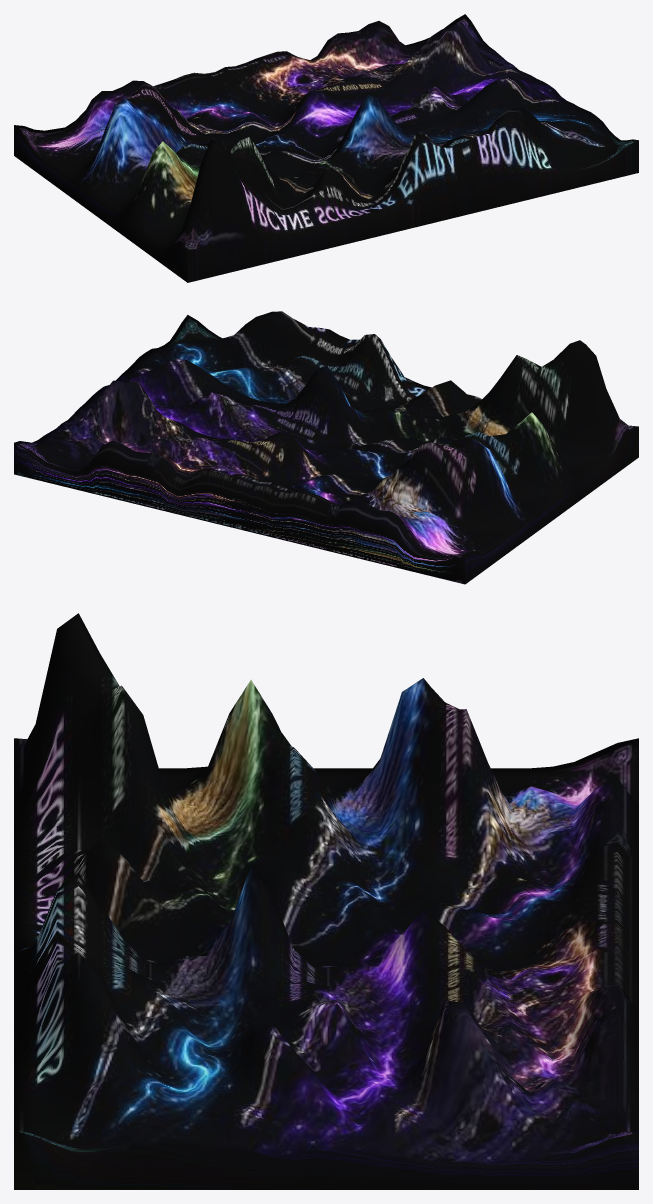
File: EXTRA_Brooms_6Tier.glb
The picture shows the model from 3 angles, top to bottom: view 1: azimuth 30°, elevation 25°; view 2: azimuth 150°, elevation 25°; view 3: azimuth 270°, elevation 25°; orthographic projection. The views are drawn at different scales.
Parts seen in each view (by area): view 1: EXTRA_Brooms_6Tier; view 2: EXTRA_Brooms_6Tier; view 3: EXTRA_Brooms_6Tier.
Part boxes in pixels (<box>): EXTRA_Brooms_6Tier: <box>14,14,638,282</box>; EXTRA_Brooms_6Tier: <box>14,311,638,584</box>; EXTRA_Brooms_6Tier: <box>14,613,638,1189</box>.
Bounding box in the file's own units: 2 × 0.51 × 1.33.
Materials: 1 (1 with a texture image).
